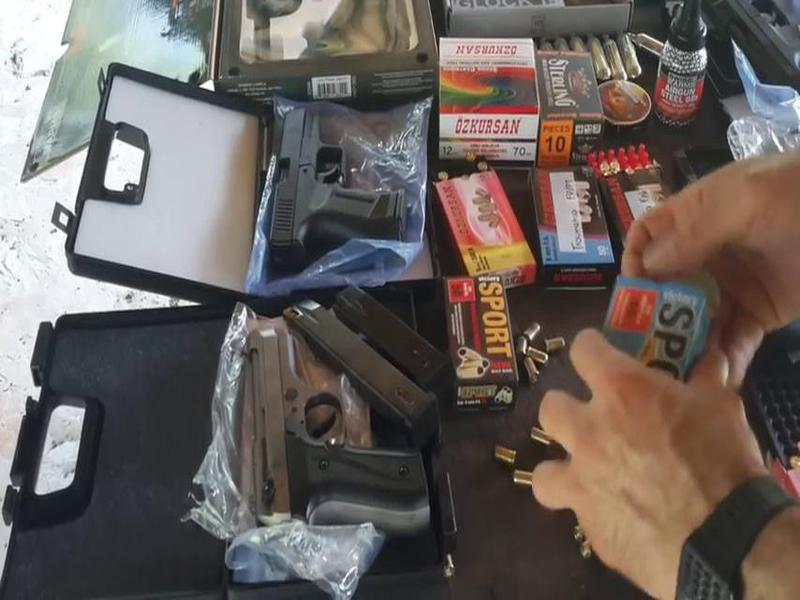Pistola: (230, 309, 445, 559), (267, 82, 428, 269)
